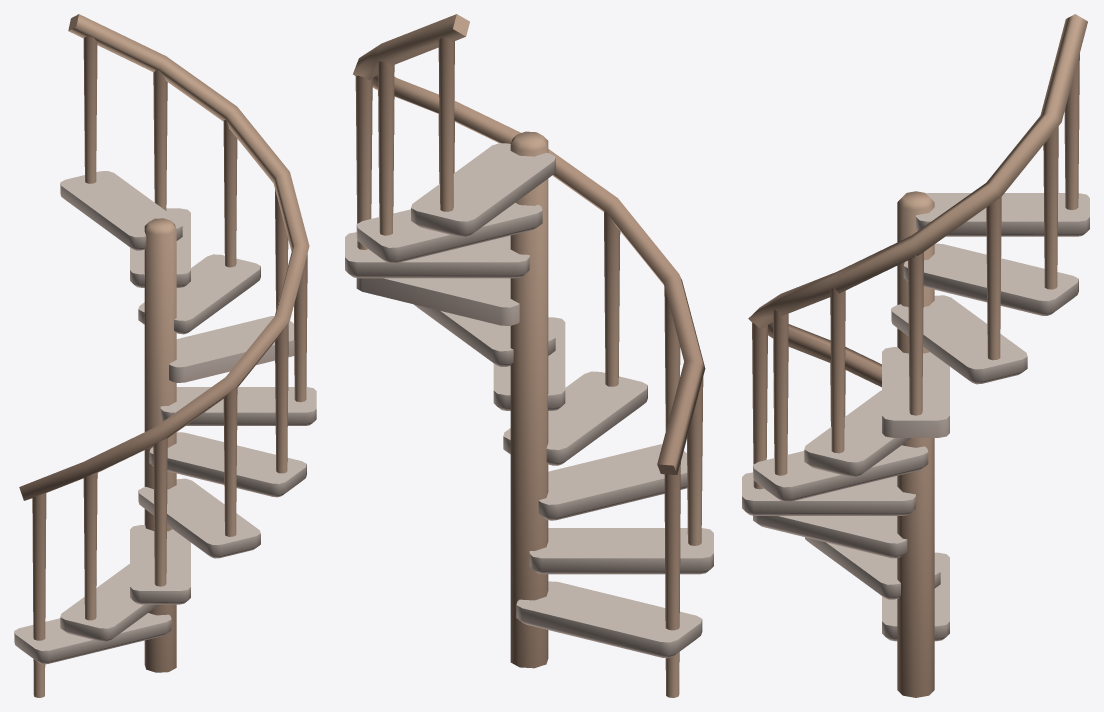
The model's file is stairs-spiral-railing.glb.
3 views of the same model, side by side, from view 1: azimuth 30°, elevation 25°; view 2: azimuth 150°, elevation 25°; view 3: azimuth 270°, elevation 25° (orthographic). The views are drawn at different scales.
Visible parts, largest first — view 1: stairs-spiral-railing; view 2: stairs-spiral-railing; view 3: stairs-spiral-railing.
Part boxes in pixels (x1,y1,x2,y2): stairs-spiral-railing: (14,14,316,697); stairs-spiral-railing: (345,14,713,697); stairs-spiral-railing: (742,14,1089,697).
Bounding box in the file's own units: 1.5 × 3.2 × 1.5.
